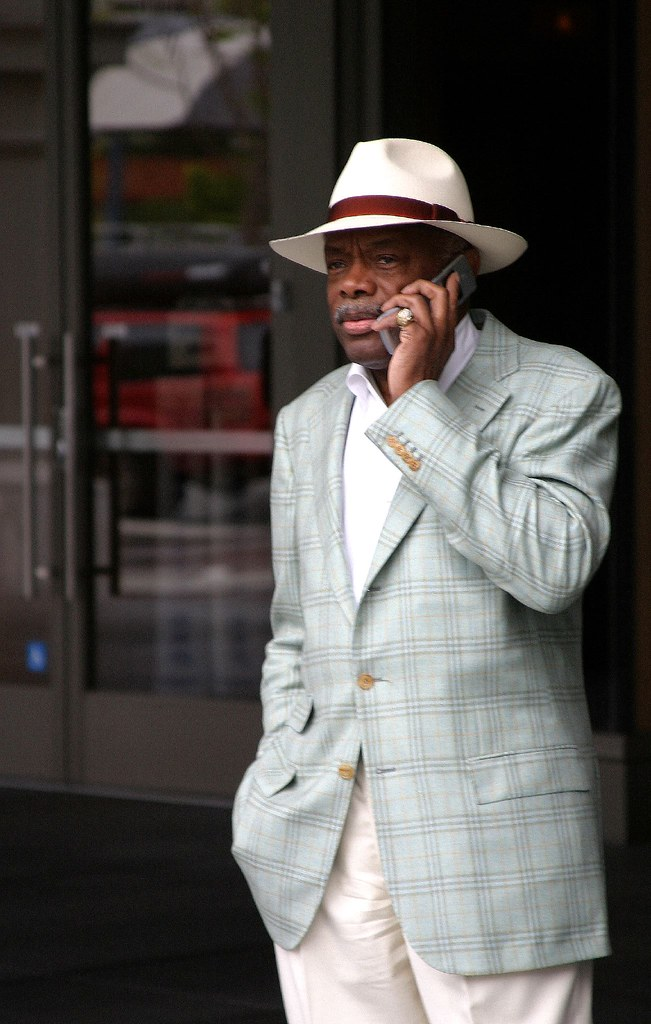phone: (383, 267, 477, 373)
talk: (324, 237, 488, 400)
